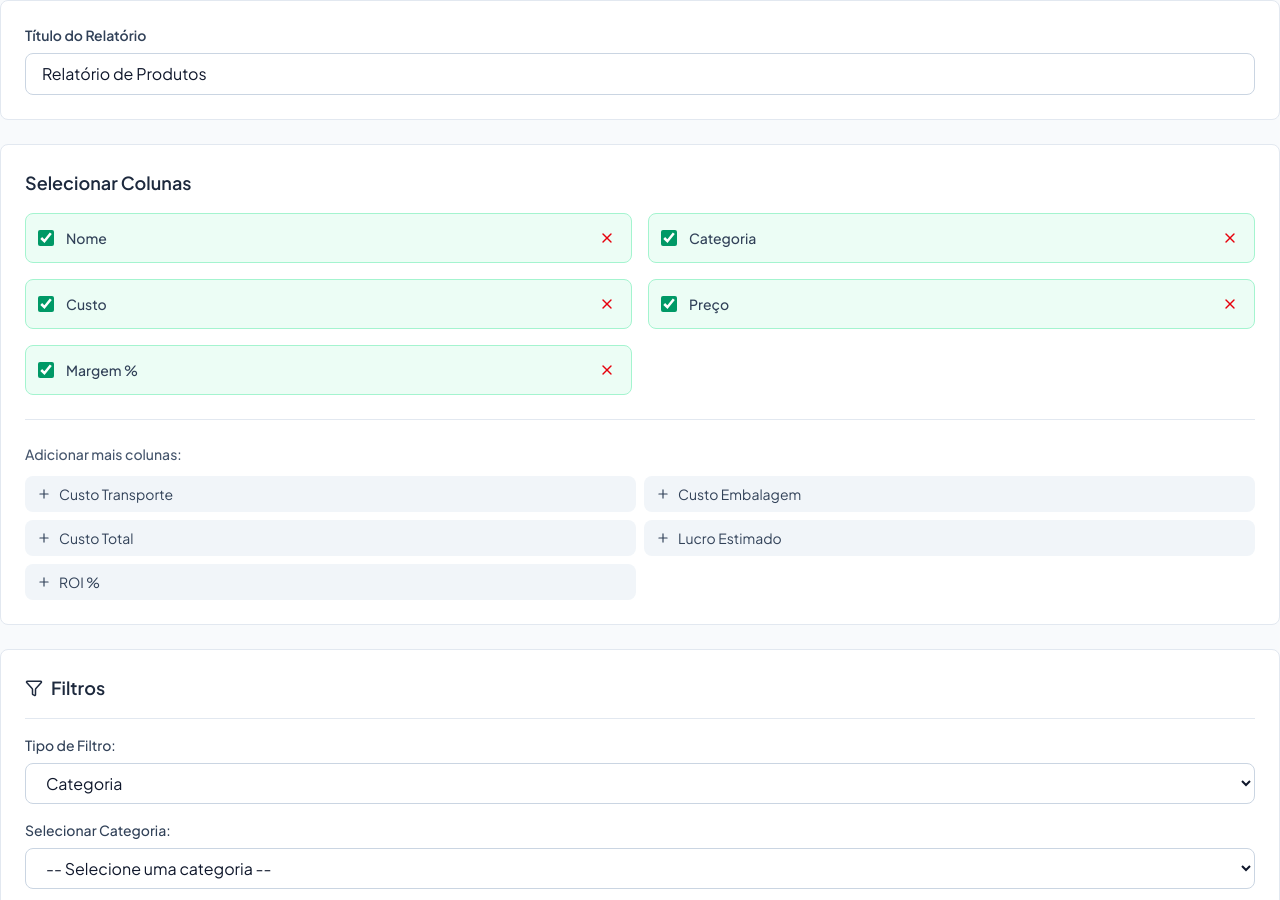
ReportBuilder - Filter Functionality › Adding Filters › should add price range filter
The width and height of the screenshot is (1280, 900).
Select "Faixa de Preço" in the dropdown below "Tipo de Filtro:" at [640, 784], box [25, 763, 1255, 804]
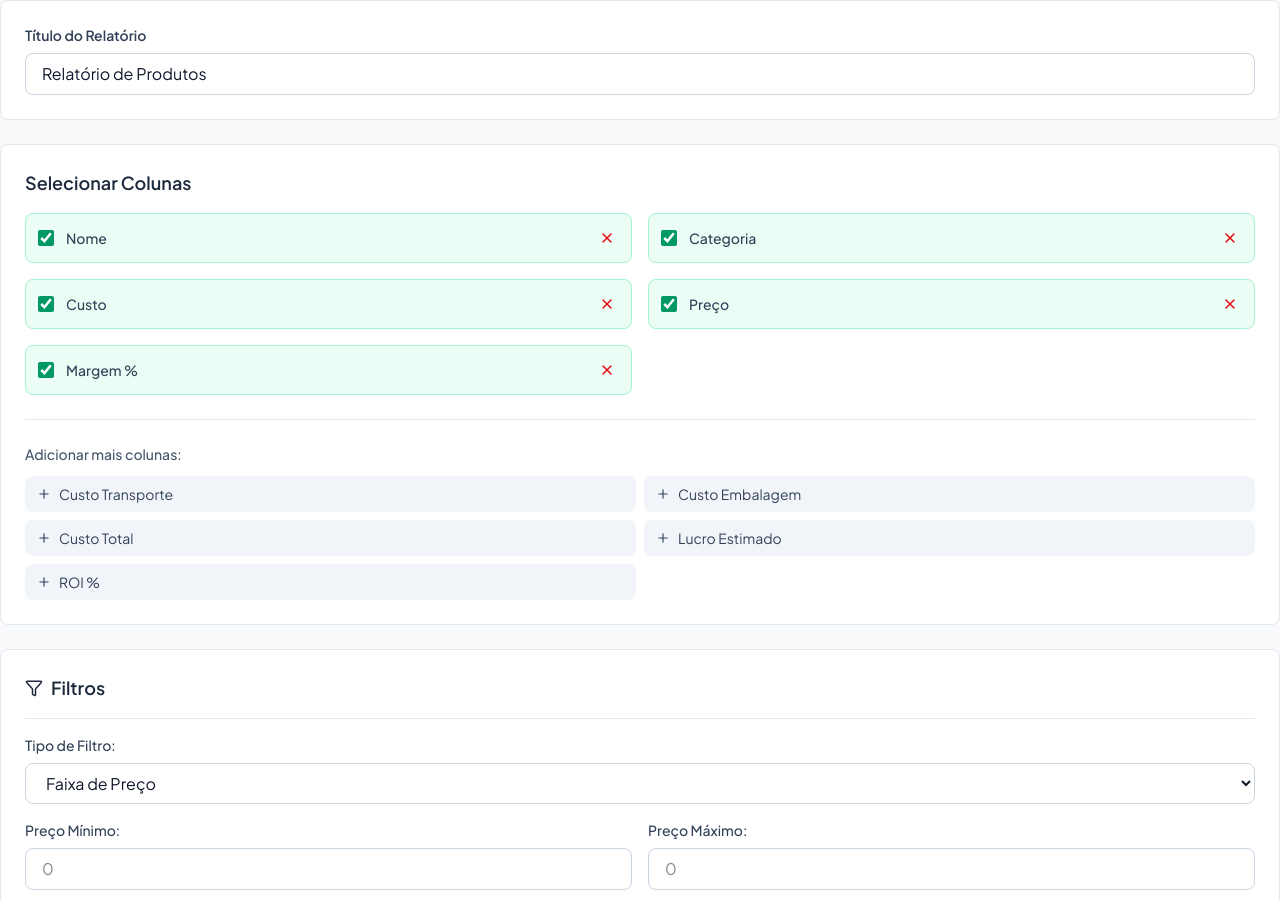
Type "100" into the number field with placeholder "0".
click(328, 869); type("100")  # box [25, 848, 632, 890]
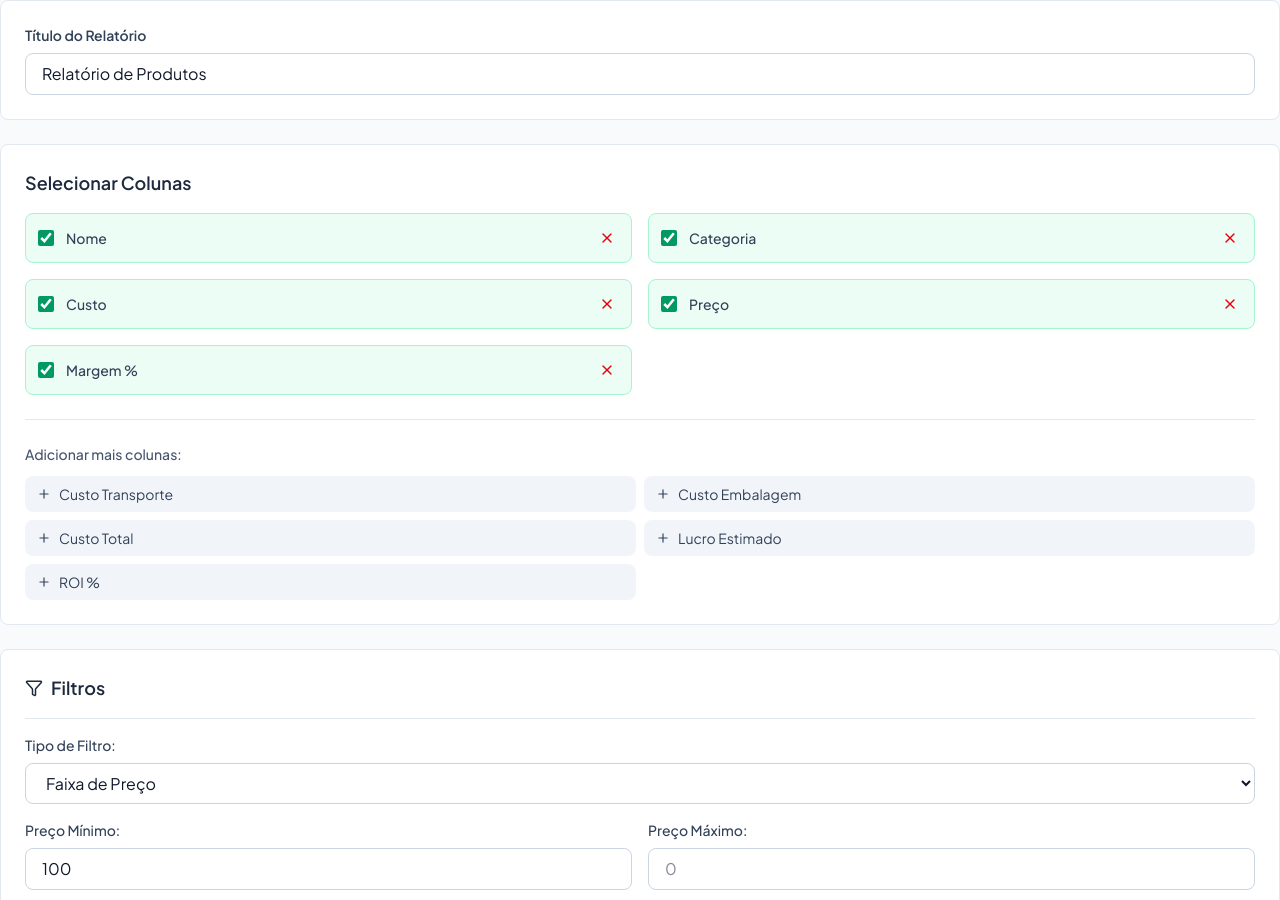
Type "200" into the number field with placeholder "0".
click(952, 869); type("200")  # box [648, 848, 1255, 890]
(page scrolled)
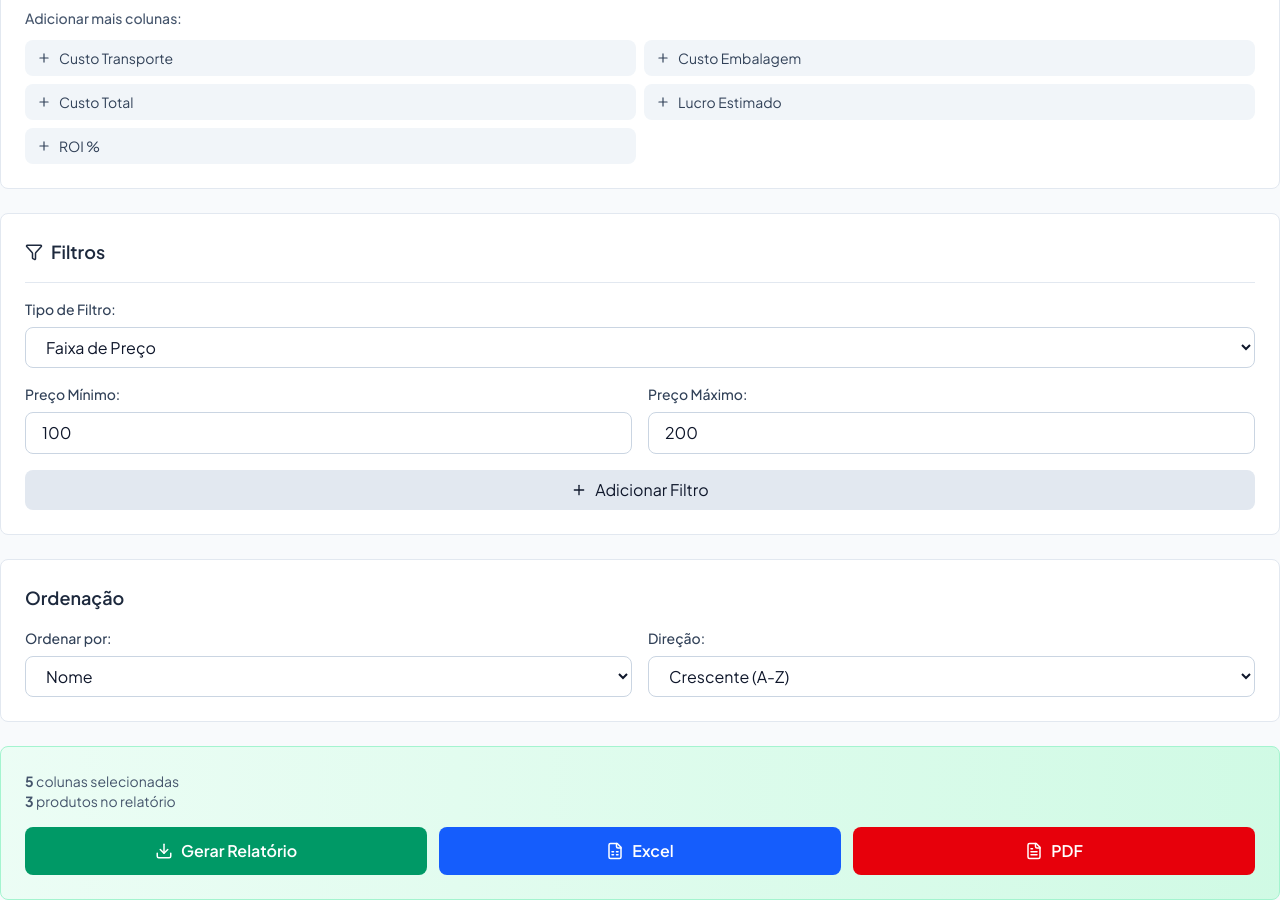
Click the button "Adicionar Filtro".
click(640, 490)  # box [25, 470, 1255, 510]
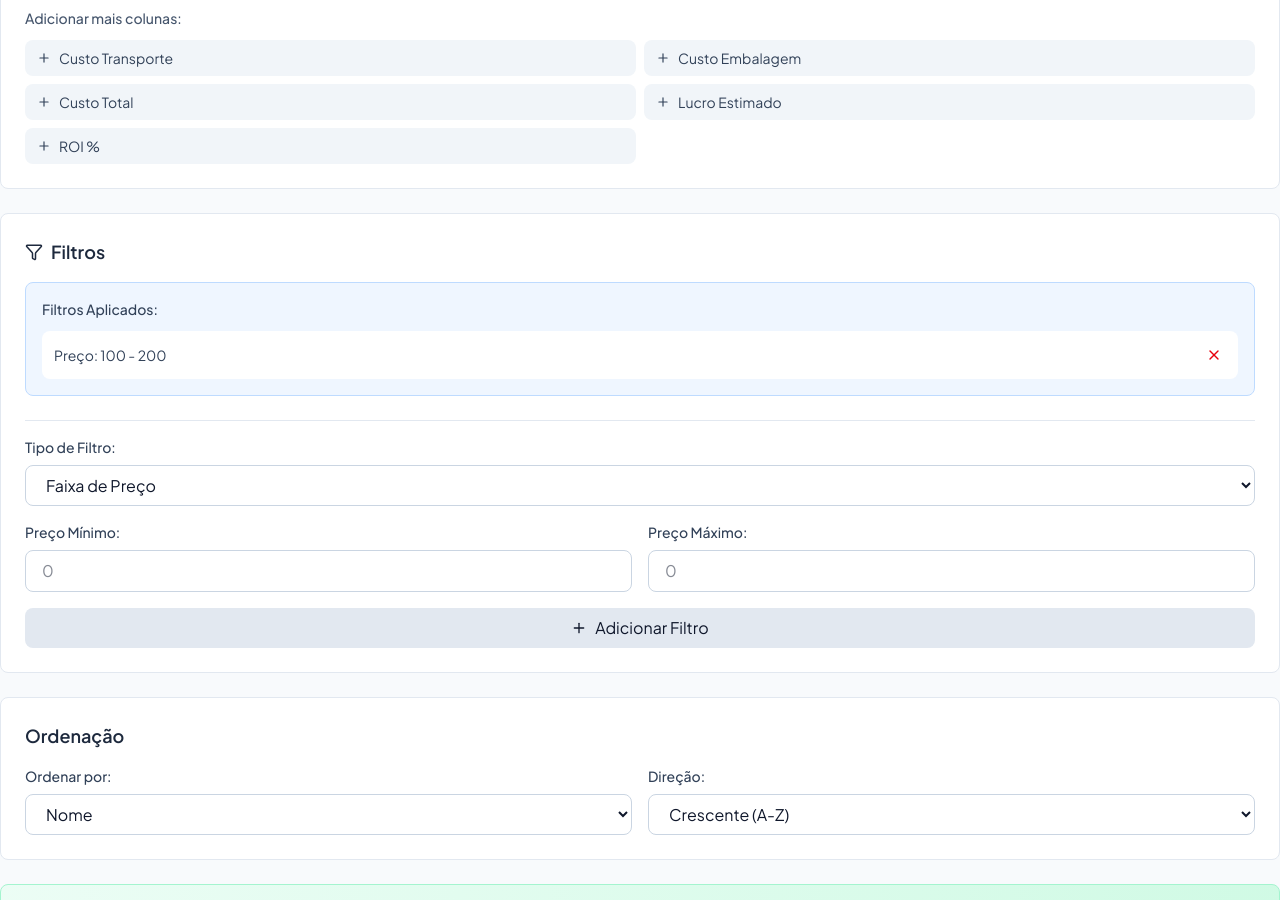
Expected: the text "Preço: 100 - 200" is shown, [54, 345, 167, 365]
